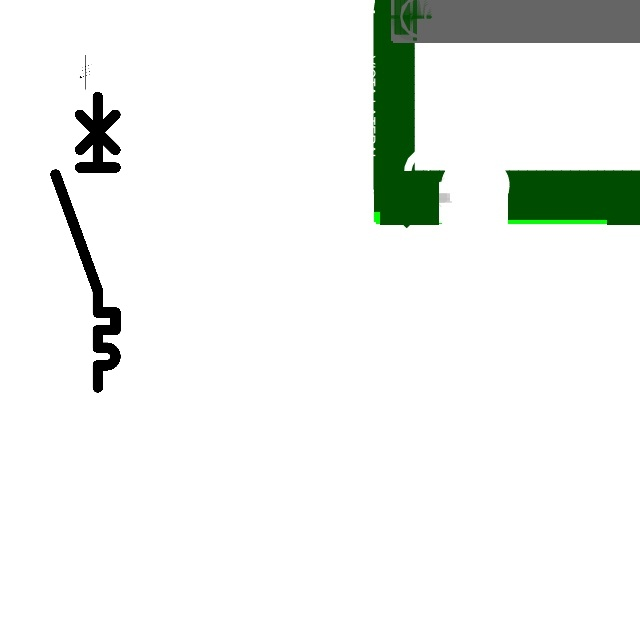interruptor_termomagnetico: (48, 89, 123, 394)
